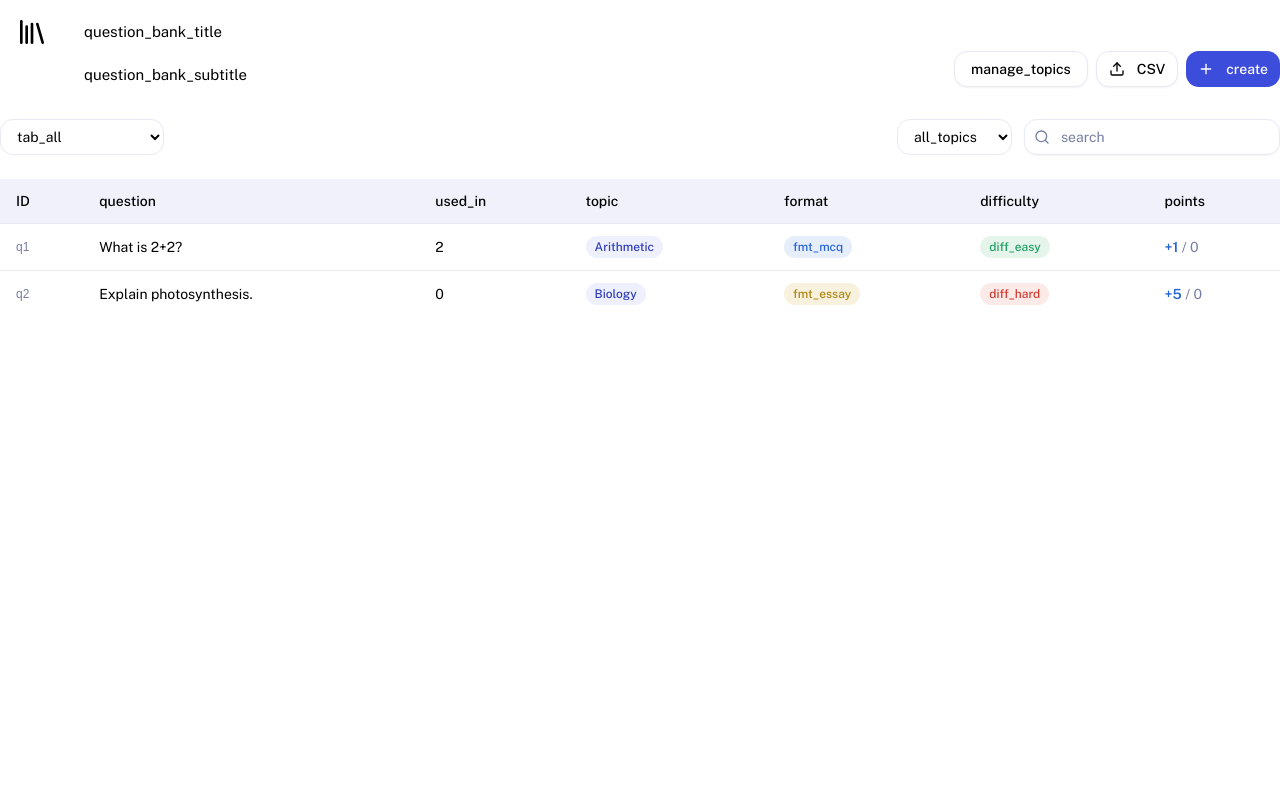
Test case: QuestionBankPage › opens the import modal on CSV click
Expected: the text "What is 2+2?" is shown, [83, 223, 419, 270]
Click the button "CSV" at coordinates (1137, 68), box [1096, 50, 1178, 86]
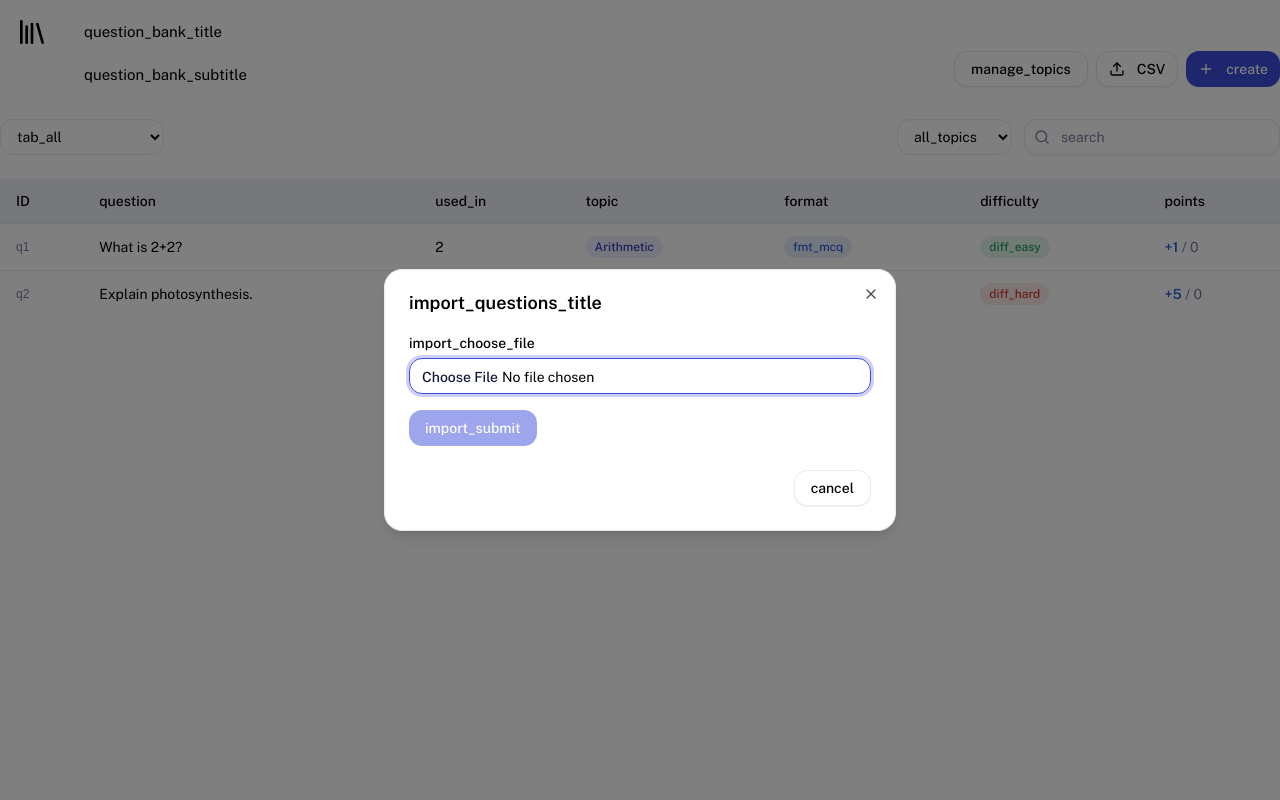
Now the dialog "import_questions_title" is shown, box [384, 269, 896, 531]
